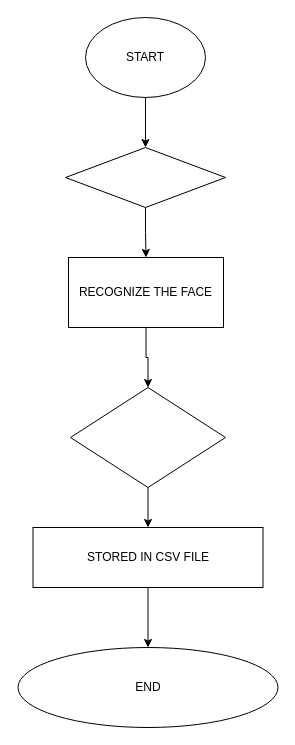
The diagram is 295 pixels wide and 745 high, and some of its shapes have lost their labels. The centre of each missing label's shape, as x and y in pixels:
"FACE RECOGNIZED" goes at (148,437).
"NEW USER?" goes at (145,177).
